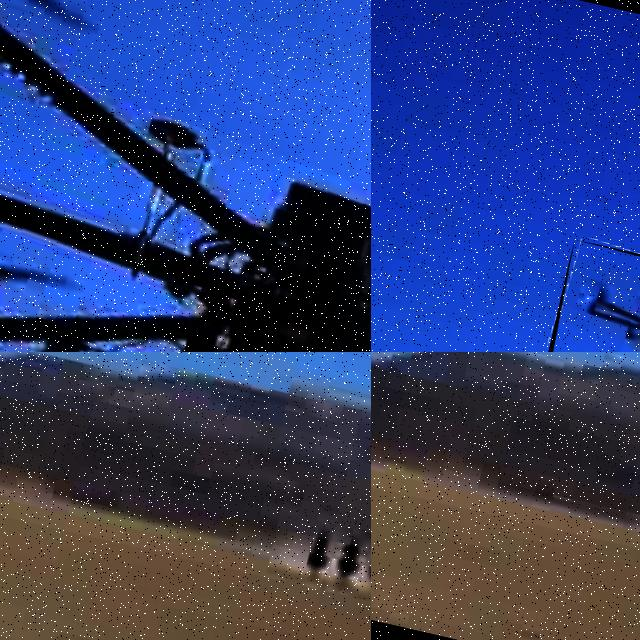drone: (0, 0, 371, 352), (544, 239, 640, 352)
